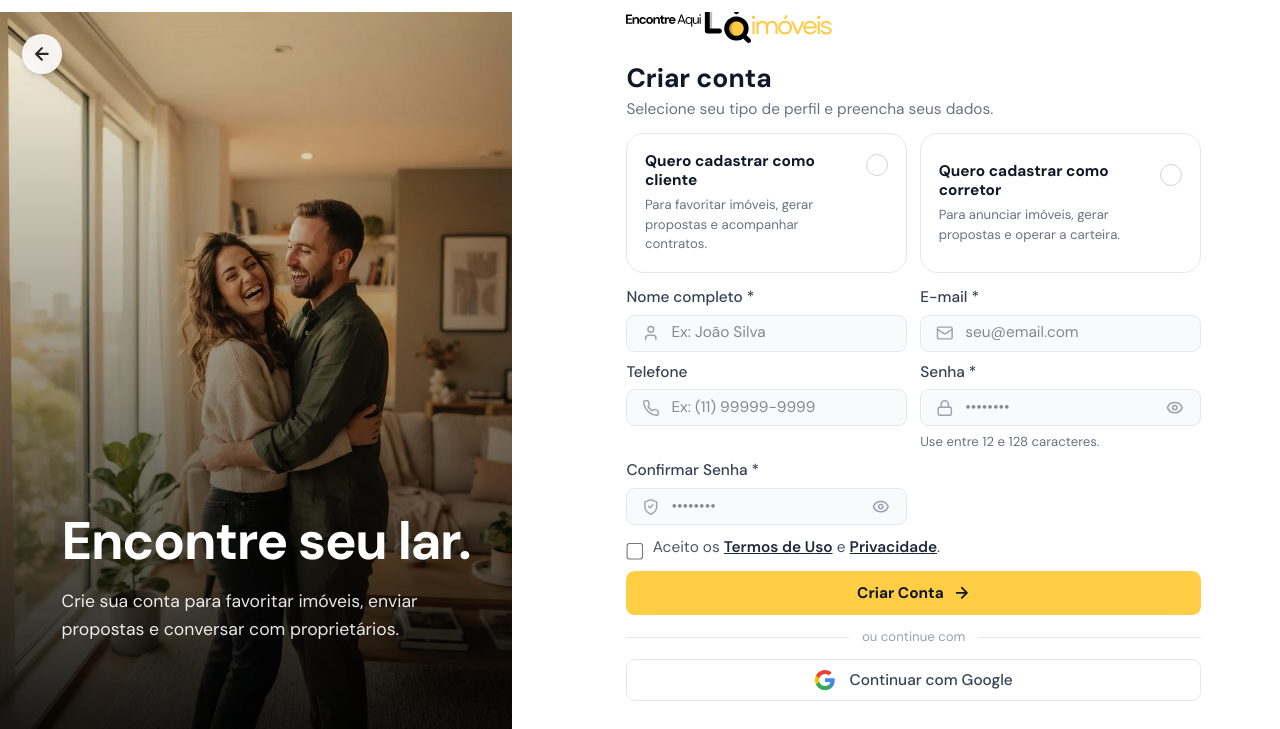
Test: signup flow › fluxo sem Google mostra erro de conexão para falha de rede no POST inicial
The width and height of the screenshot is (1280, 729).
Click the button "Quero cadastrar como cliente" at (767, 203), box x1=626 y1=133 x2=907 y2=273
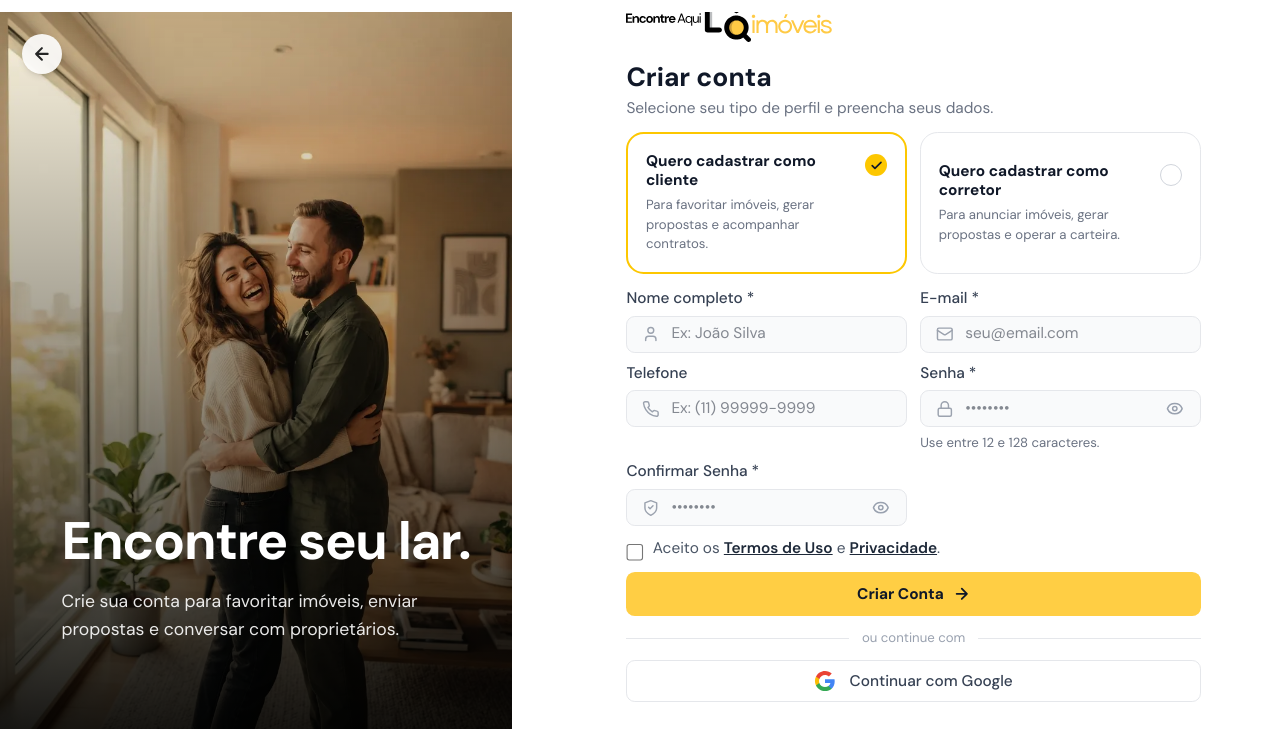
Type "Cliente Sem Conexão" into the field labelled "Nome completo *" at (767, 334), box x1=626 y1=316 x2=907 y2=353
Type "cliente-sem-conexao@example.com" into the field labelled "E-mail *" at (1060, 334), box x1=920 y1=316 x2=1201 y2=353
Type "SenhaMuitoSegura123" into the password field labelled "Senha *" at (1060, 409), box x1=920 y1=390 x2=1201 y2=427
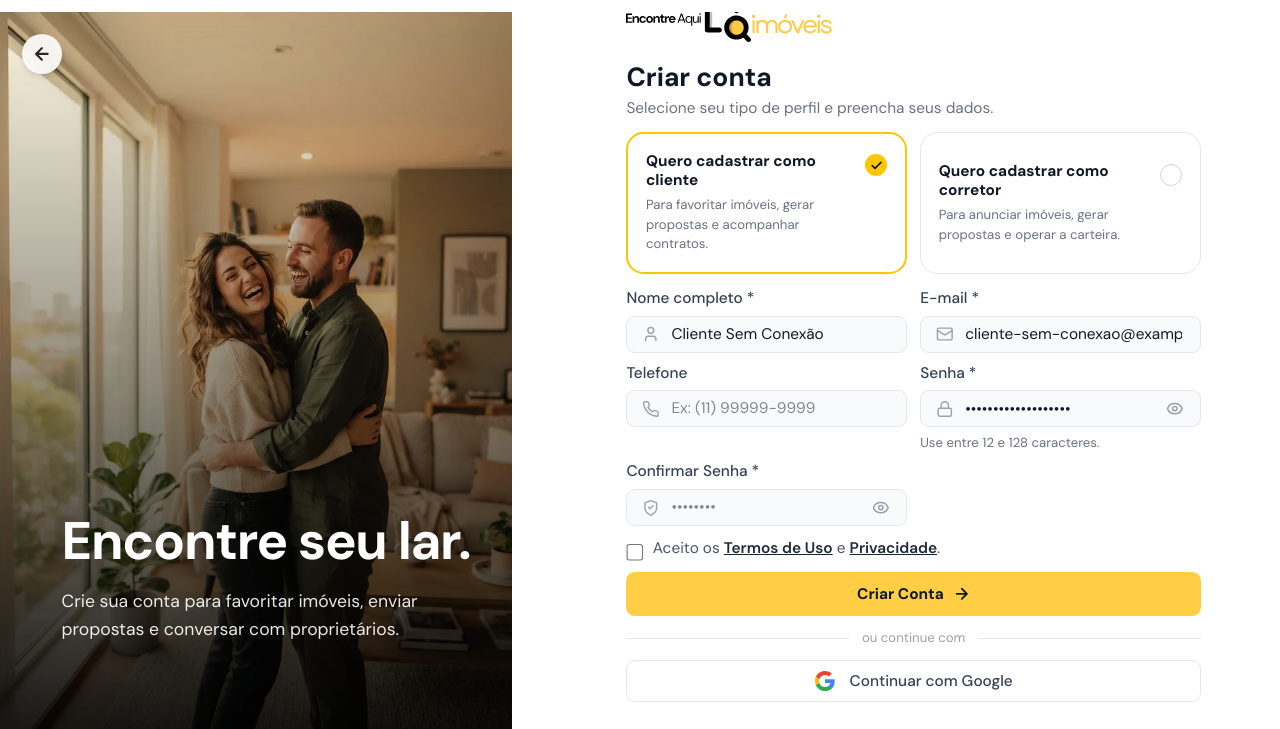
Type "SenhaMuitoSegura123" into the password field labelled "Confirmar Senha *" at (767, 508), box x1=626 y1=489 x2=907 y2=526
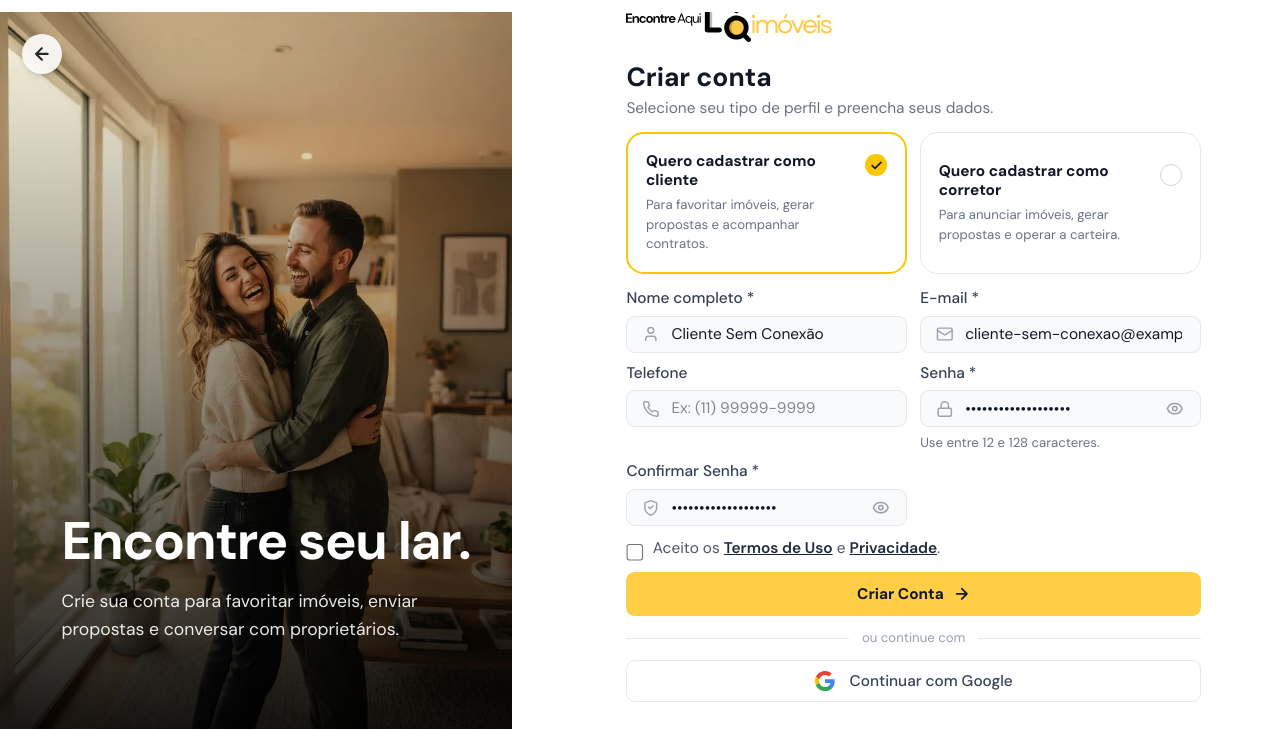
Type "(62) 98888-9999" into the field labelled "Telefone" at (767, 409), box x1=626 y1=390 x2=907 y2=427
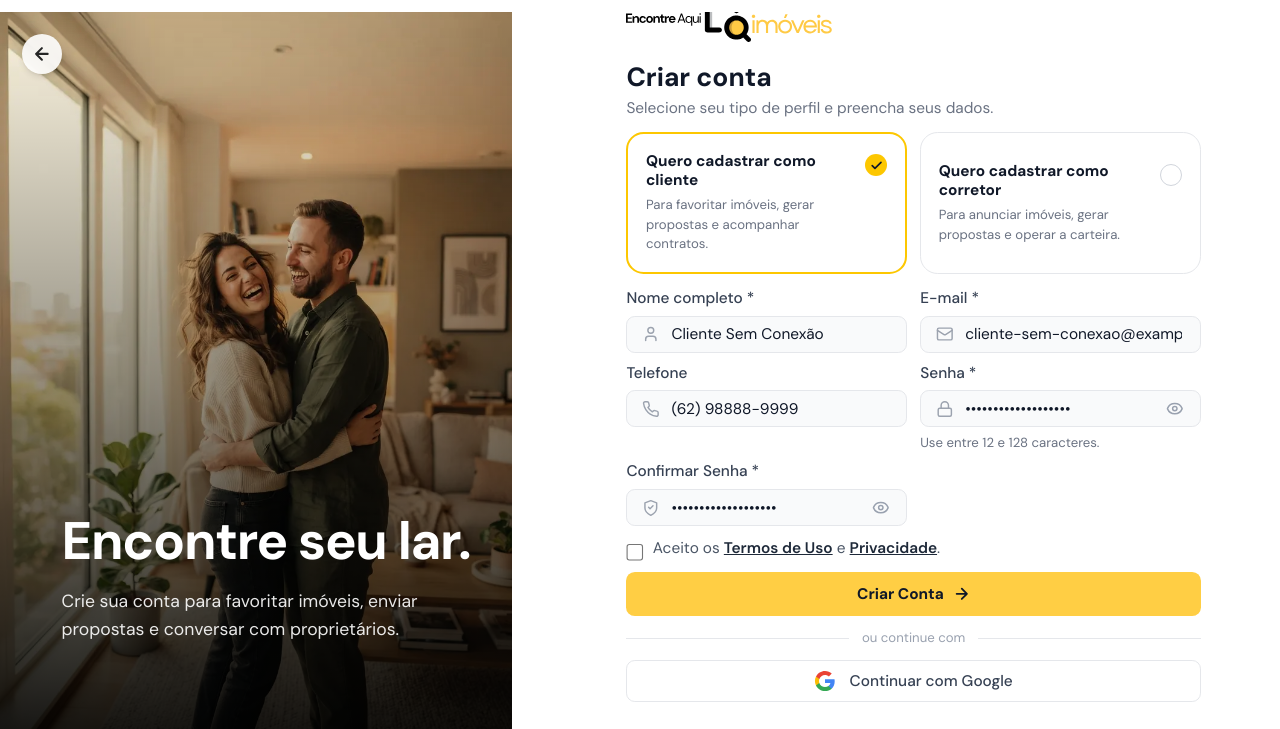
Click the checkbox at (635, 552), box x1=626 y1=544 x2=644 y2=561
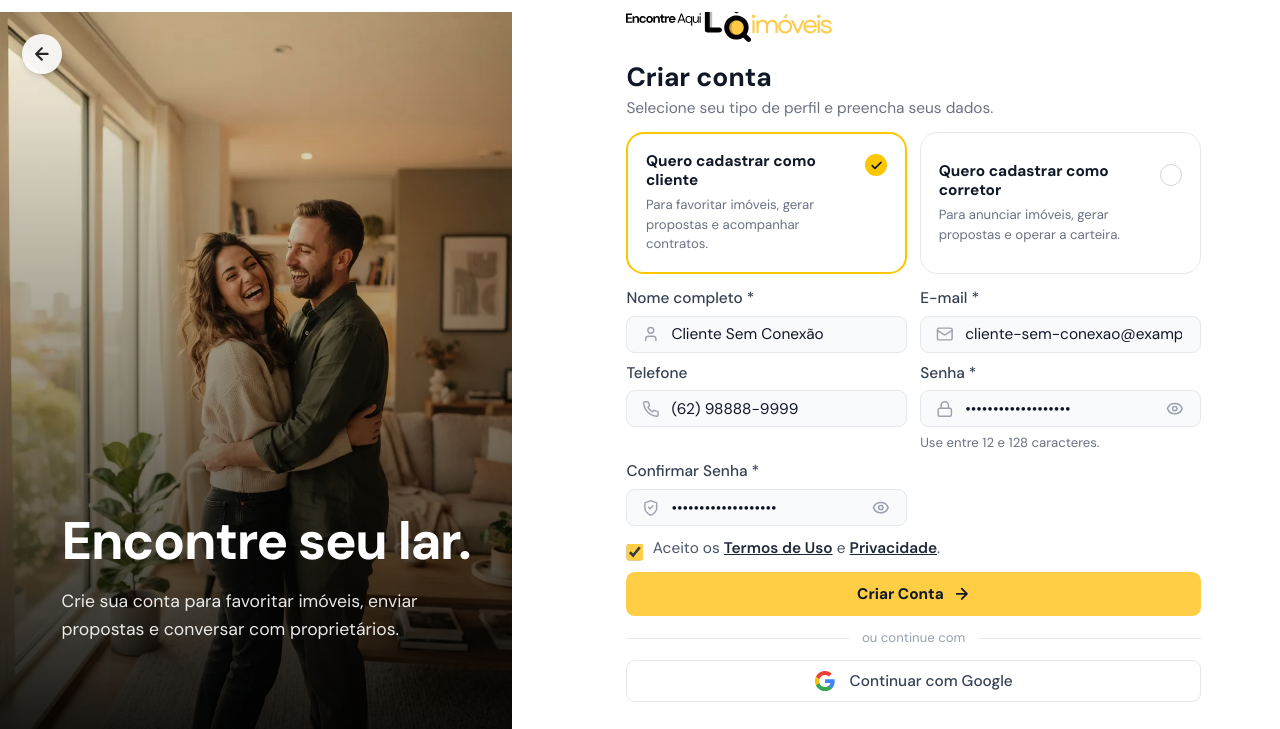
Click the button "Criar Conta" at (914, 594), box x1=626 y1=572 x2=1201 y2=616
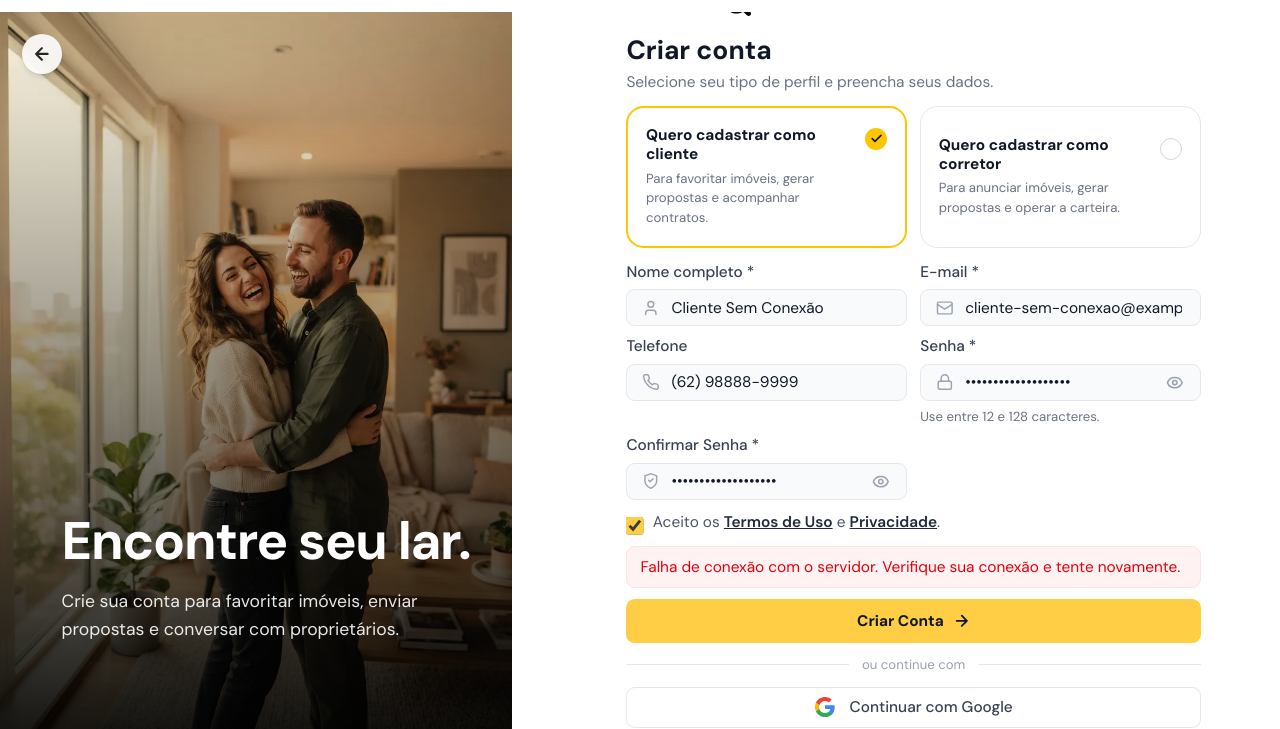
expect the text "Falha de conexão com o servidor. Verifique sua conexão e tente novamente." is shown: met, box x1=626 y1=546 x2=1201 y2=588
